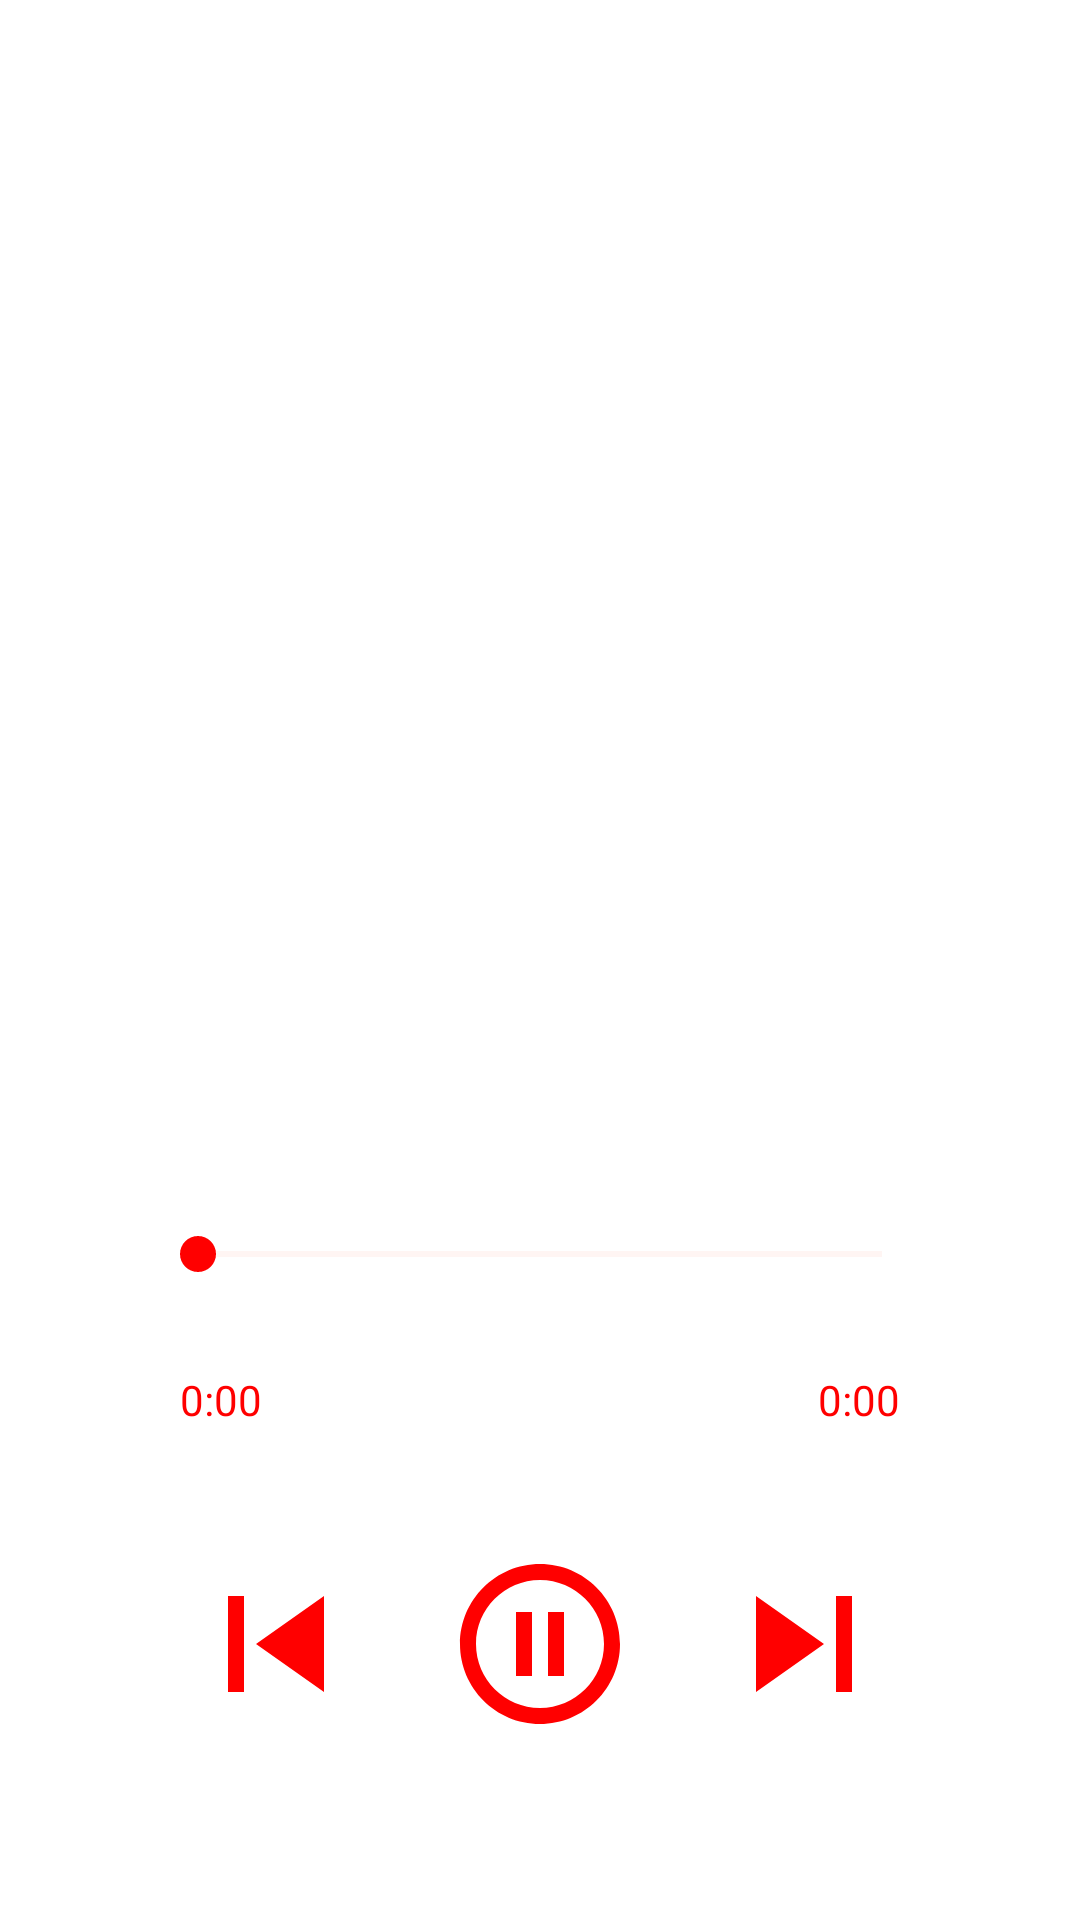

Where icons sit on this 1080 x 1920 app screen, as BBox(x1, y1, x2, y2):
pause circle: BBox(459, 1564, 620, 1724)
skip next: BBox(756, 1596, 852, 1692)
skip previous: BBox(228, 1596, 324, 1692)
